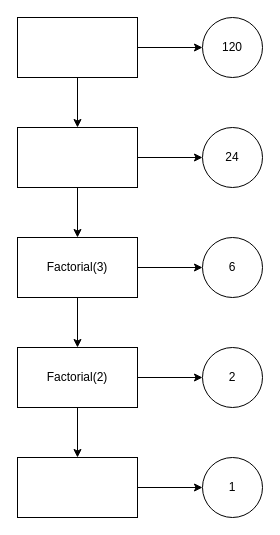
Some shapes in this 280 by 535 pixel diagram are drawn without their labels. The centre of each missing label's shape, as x and y in pixels:
"Factorial(1)" belongs at pixel 77 487.
"Factorial(4)" belongs at pixel 77 157.
"Factorial(5)" belongs at pixel 77 47.
